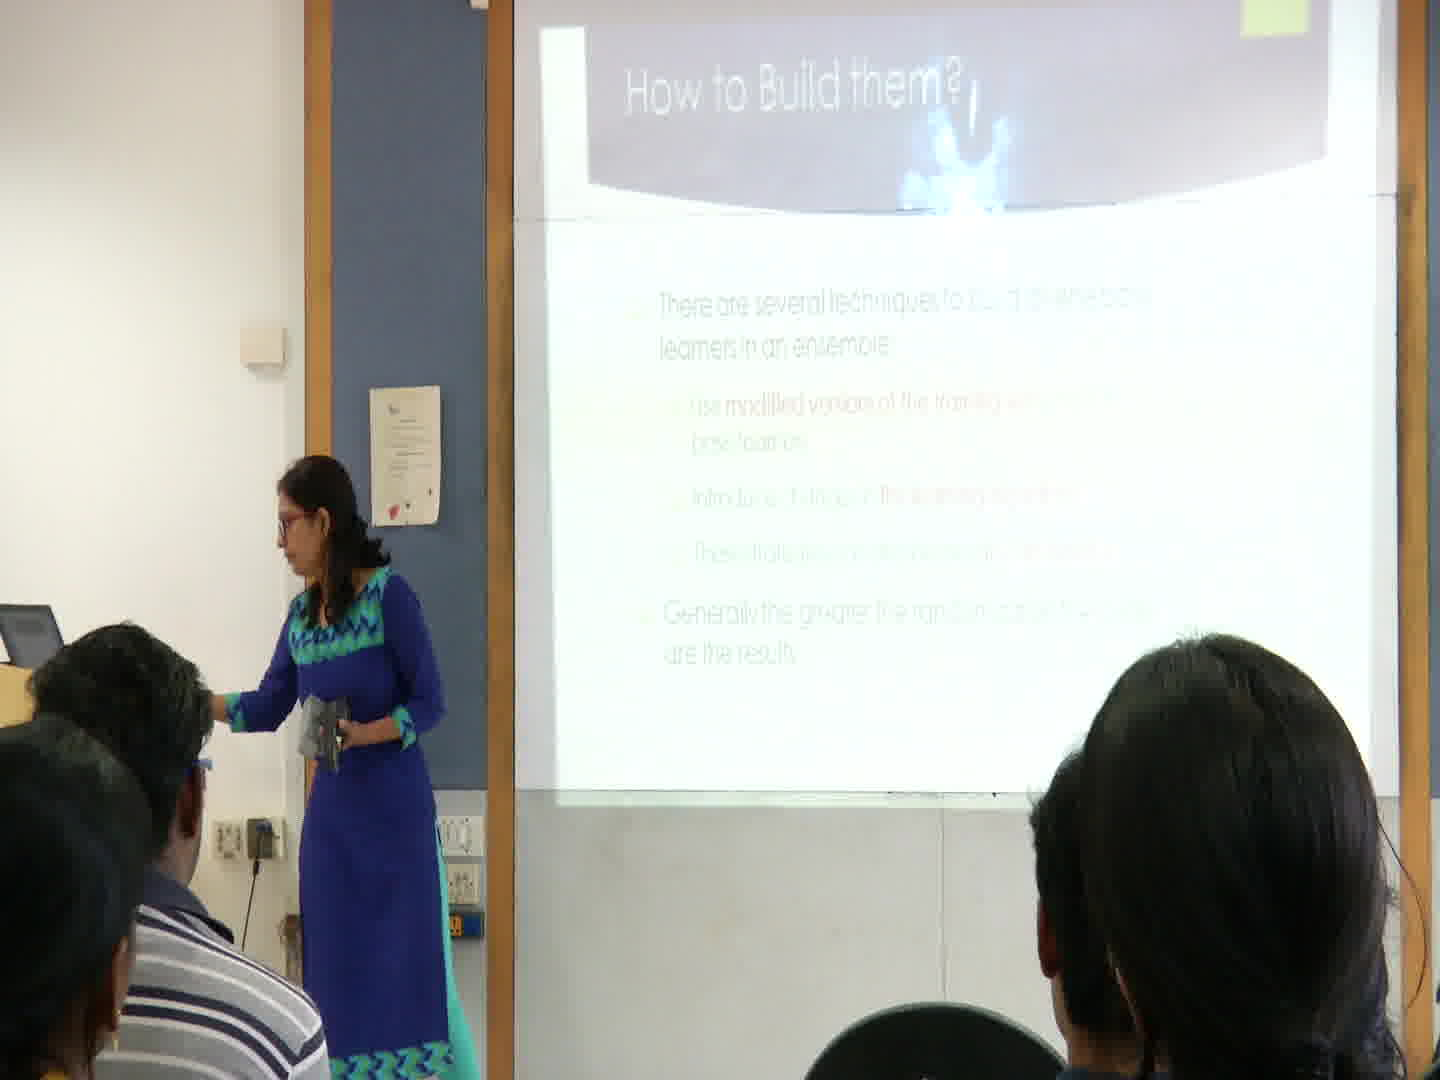slide: (541, 2, 1373, 804)
